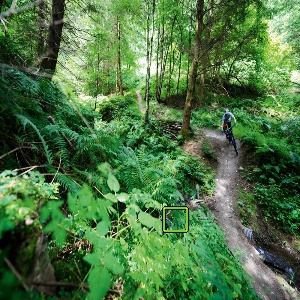square: (161, 204, 191, 235)
